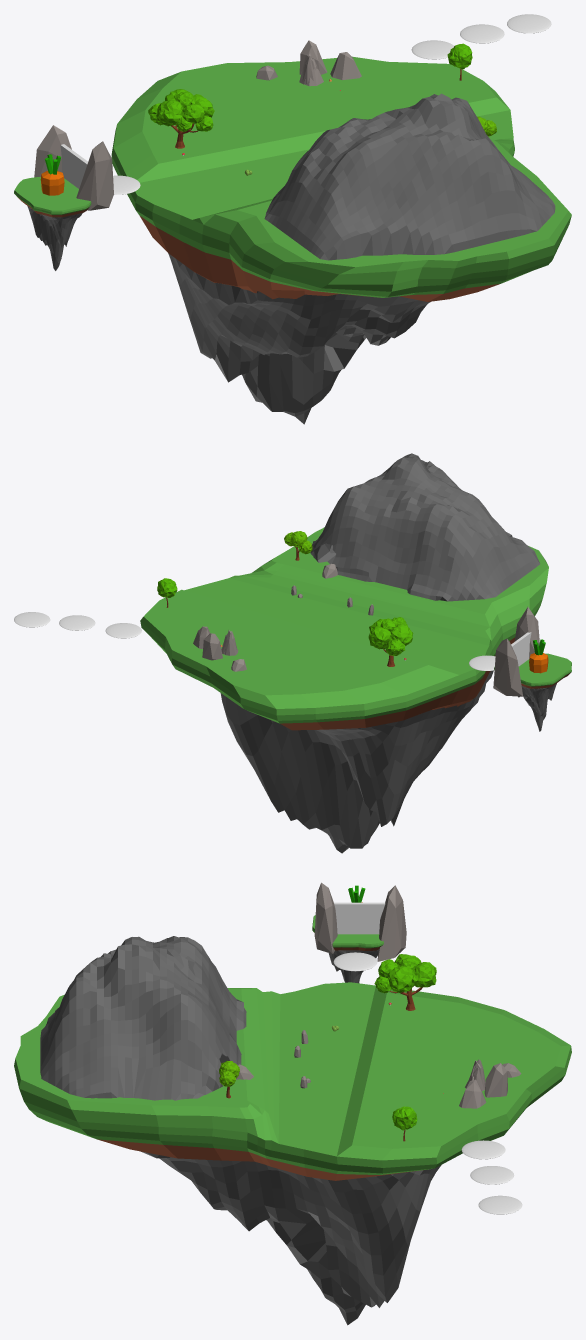
File: lvl3.glb
3 renders of one model, top to bottom at view 1: azimuth 30°, elevation 25°; view 2: azimuth 150°, elevation 25°; view 3: azimuth 270°, elevation 25°, orthographic. The views are drawn at different scales.
Visible parts, largest first — view 1: Landscape, Landscape.002, Tree.006, Cylindre.002, Rock4.020, Landscape.001, Rock4.019, Portail, Sphère.001, Sphère.003, Sphère.002, Rock4.009 (+2 smaller); view 2: Landscape, Landscape.002, Tree.006, Rock4.019, Cylindre.002, Landscape.001, Rock4.020; view 3: Landscape, Landscape.002, Tree.006, Rock4.019, Portail, Rock4.020, Cylindre.002, Sphère.002, Sphère, Sphère.003, Sphère.001, Rock4.014.
Boxes of the visible parts, x1,y1,x2,y2 form: Landscape: (111, 56, 571, 424); Landscape.002: (264, 93, 555, 260); Tree.006: (148, 89, 214, 148); Cylindre.002: (14, 177, 91, 217); Rock4.020: (76, 141, 113, 210); Landscape.001: (27, 206, 82, 270); Rock4.019: (34, 125, 71, 177); Portail: (60, 144, 87, 188); Sphère.001: (460, 24, 504, 43); Sphère.003: (507, 14, 551, 33); Sphère.002: (411, 40, 454, 59); Rock4.009: (330, 52, 361, 80); Landscape: (140, 527, 548, 853); Landscape.002: (310, 453, 539, 601); Tree.006: (368, 617, 413, 666); Rock4.019: (493, 638, 523, 696); Cylindre.002: (494, 653, 571, 688); Landscape.001: (518, 683, 556, 731); Rock4.020: (514, 607, 539, 658); Landscape: (14, 982, 571, 1325); Landscape.002: (40, 936, 246, 1100); Tree.006: (374, 954, 436, 1010); Rock4.019: (377, 885, 406, 961); Portail: (334, 902, 385, 934); Rock4.020: (314, 882, 337, 953); Cylindre.002: (312, 915, 383, 950); Sphère.002: (461, 1140, 505, 1159); Sphère: (333, 952, 377, 971); Sphère.003: (478, 1195, 522, 1214); Sphère.001: (470, 1166, 514, 1184); Rock4.014: (484, 1063, 507, 1097).
Size of the model in its own units: 333 by 213 by 273.
